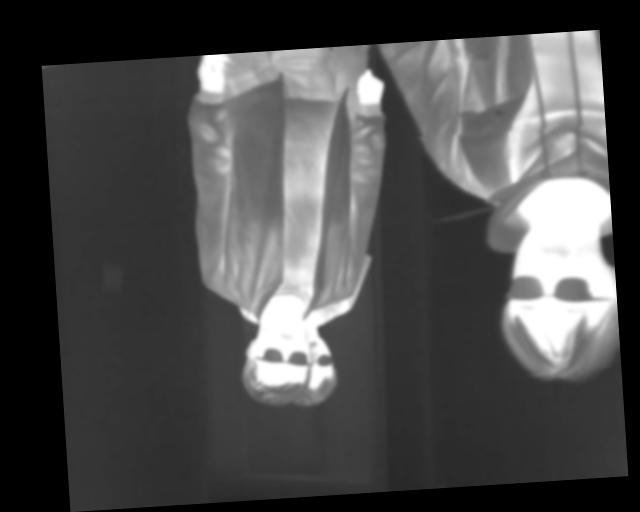face: (495, 219, 619, 388), (237, 307, 313, 409)
